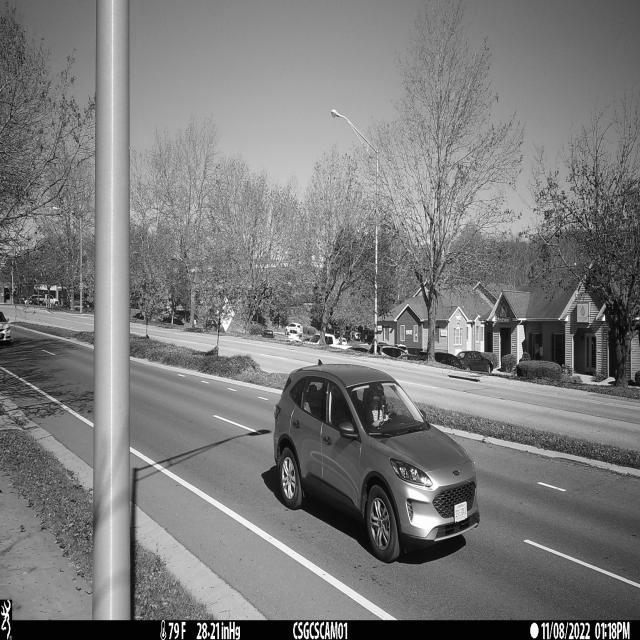SUV: (274, 361, 480, 564)
